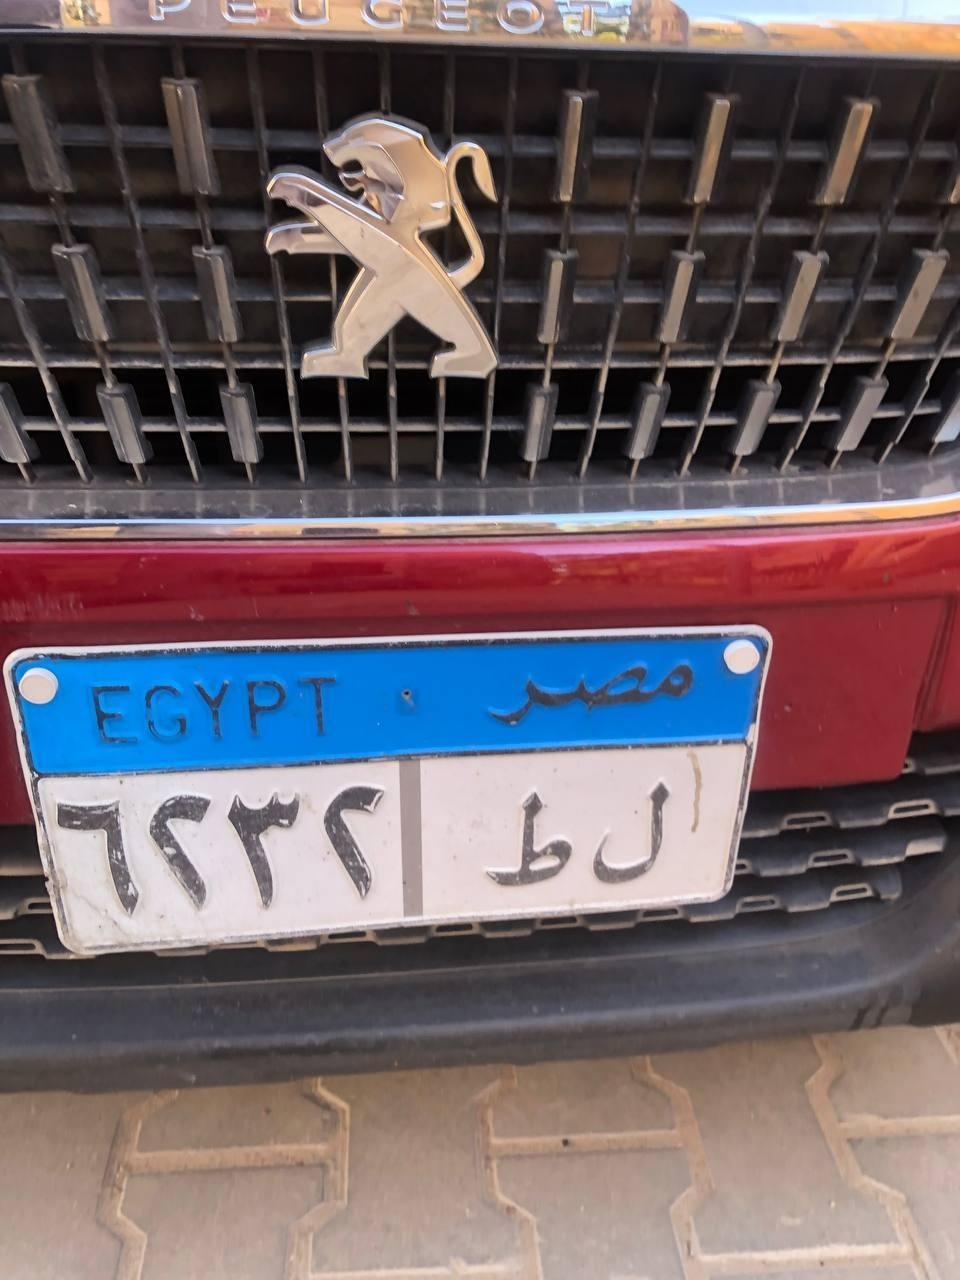2: (140, 795, 218, 914), (316, 780, 388, 901)
3: (216, 790, 300, 914)
6: (50, 800, 148, 916)
Laam: (593, 780, 668, 884)
License Plate: (4, 621, 774, 959)
Taa: (490, 786, 565, 890)
